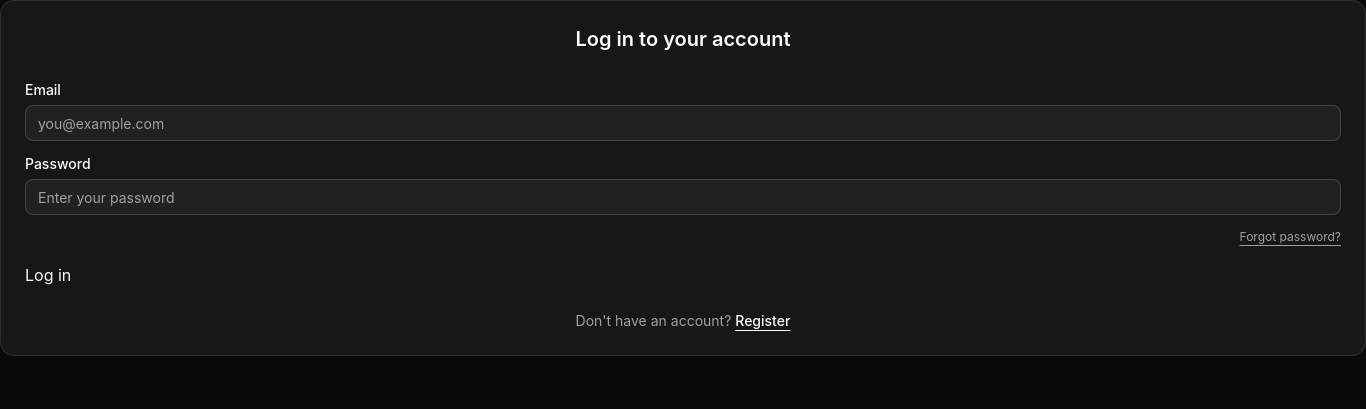
it: LoginView › form submission › displays error message with role="alert" for screen readers
Type "test@example.com" into the field labelled "Email".
click(683, 123); type("test@example.com")  # box [25,105,1341,141]
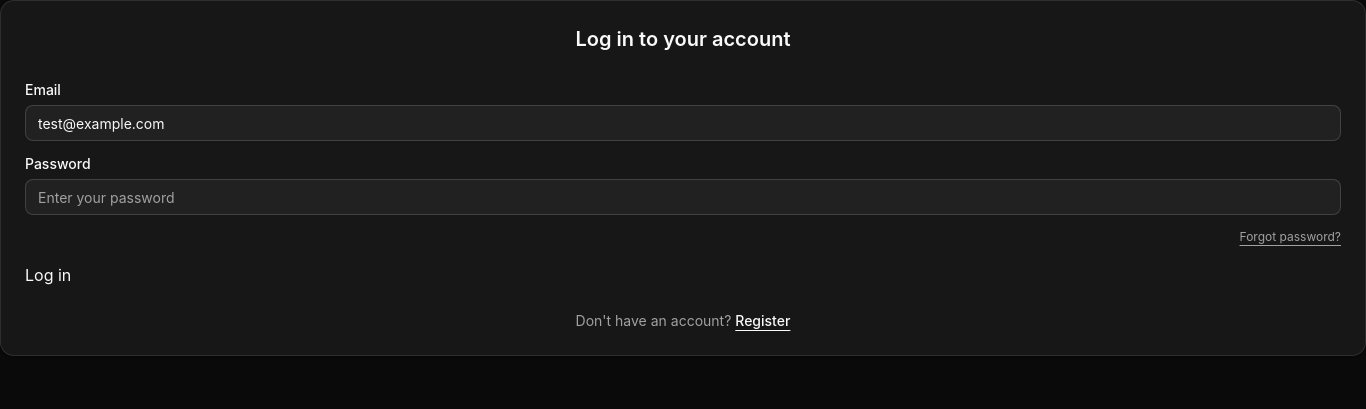
Type "password" into the password field labelled "Password".
click(683, 197); type("password")  # box [25,179,1341,215]
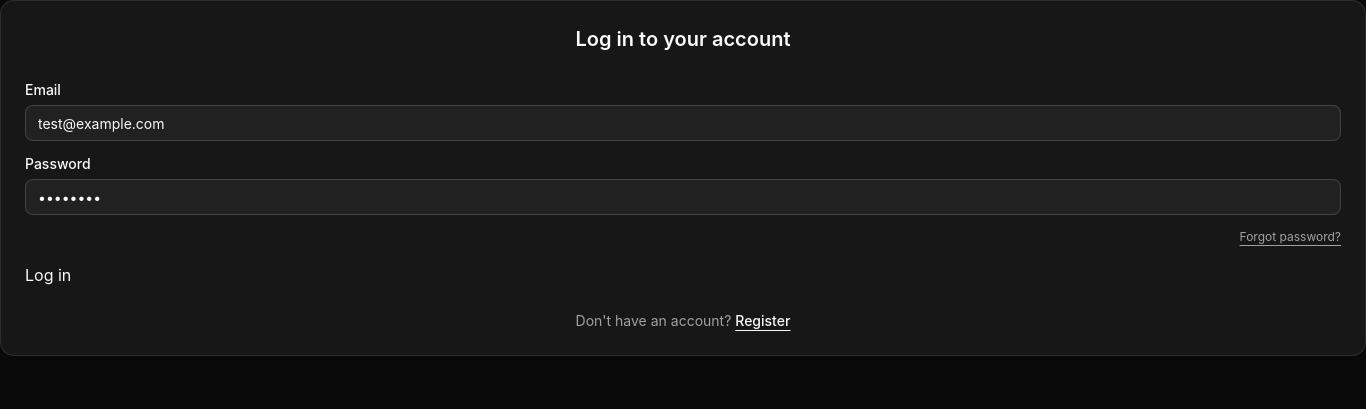
Submit the form, box [25,83,1341,287]
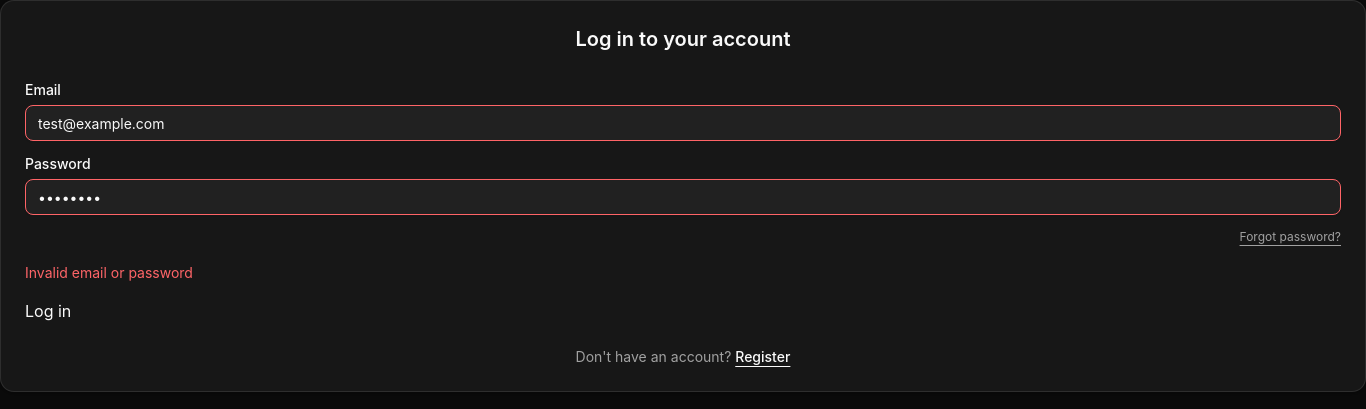
Now the message "Invalid email or password" is shown, box [25,264,193,281]
